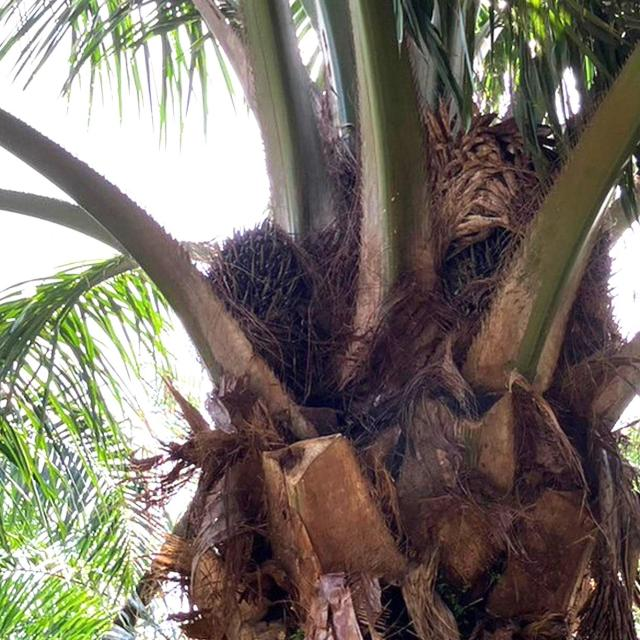unripe: (193, 212, 321, 370)
